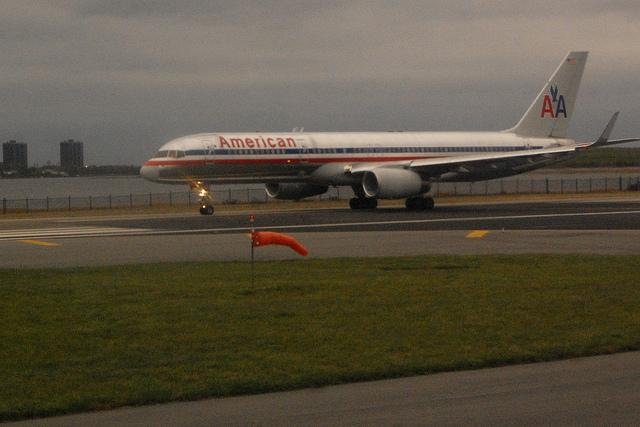airplane: (137, 47, 640, 216)
